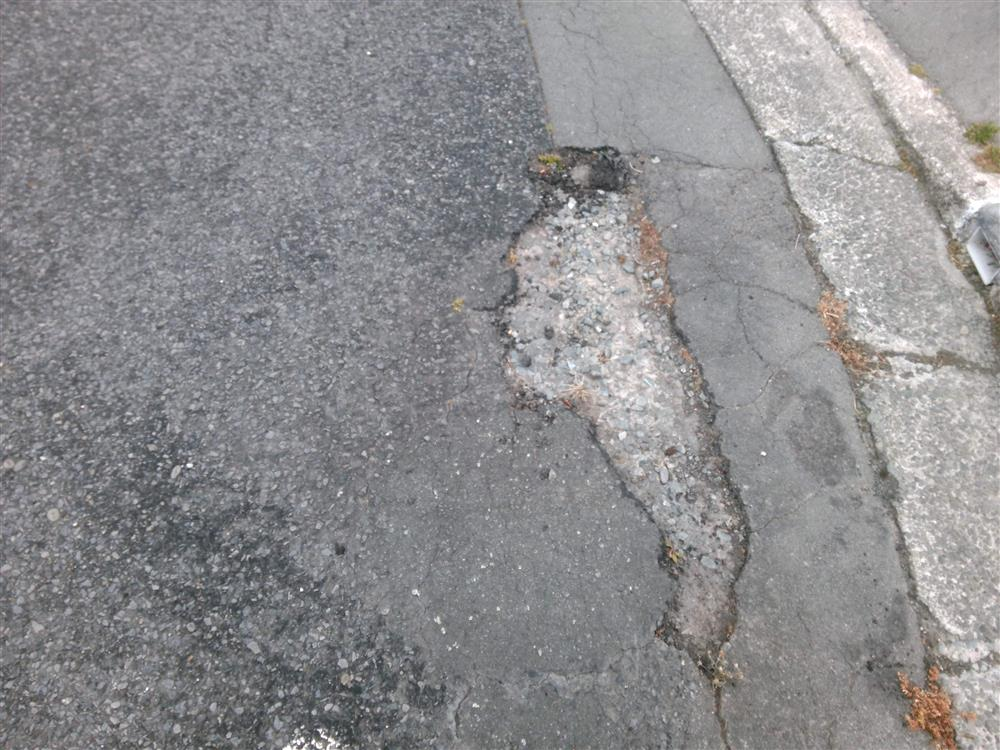pothole: (493, 145, 746, 676)
